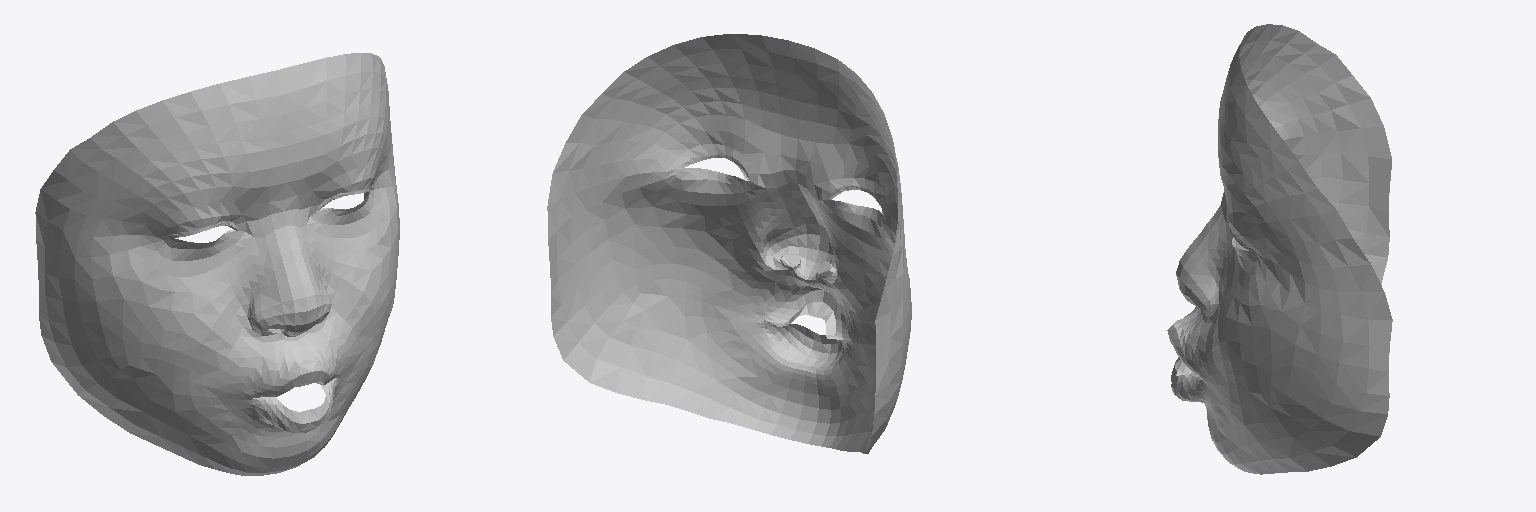
Rendered from mouthFunnel.obj.
The picture shows the model from 3 angles: view 1: azimuth 30°, elevation 25°; view 2: azimuth 150°, elevation 25°; view 3: azimuth 270°, elevation 25°; orthographic projection.
Parts seen in each view (by area): view 1: default; view 2: default; view 3: default.
Part boxes in pixels (bbox=[...]): default: bbox=[35, 53, 399, 475]; default: bbox=[547, 34, 911, 453]; default: bbox=[1167, 24, 1392, 474].
Bounding box in the file's own units: 0.1624 × 0.1833 × 0.0933.